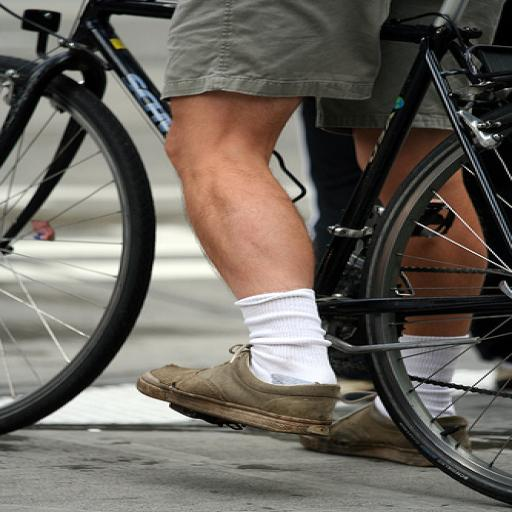bicycle: (0, 0, 510, 507)
person: (133, 0, 505, 470)
